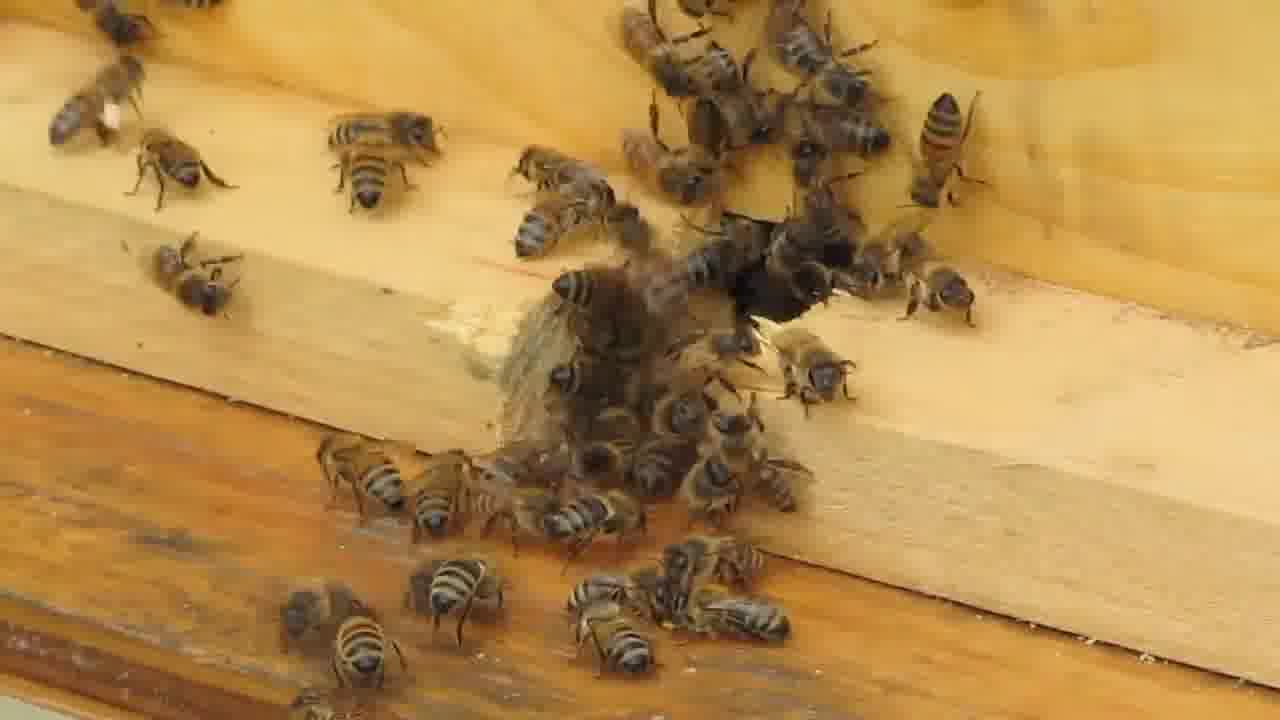pollen: (53, 55, 151, 152)
